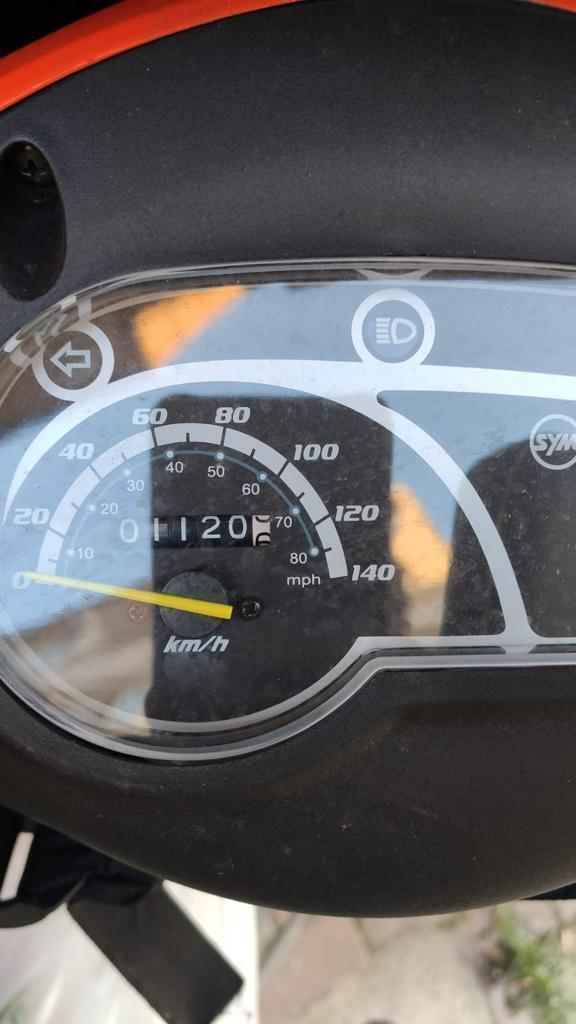0: (117, 517, 139, 545), (227, 514, 248, 540)
1: (148, 514, 165, 544), (174, 514, 191, 543)
2: (198, 513, 222, 541)
6: (253, 530, 271, 548)
odometer: (102, 512, 276, 555)
